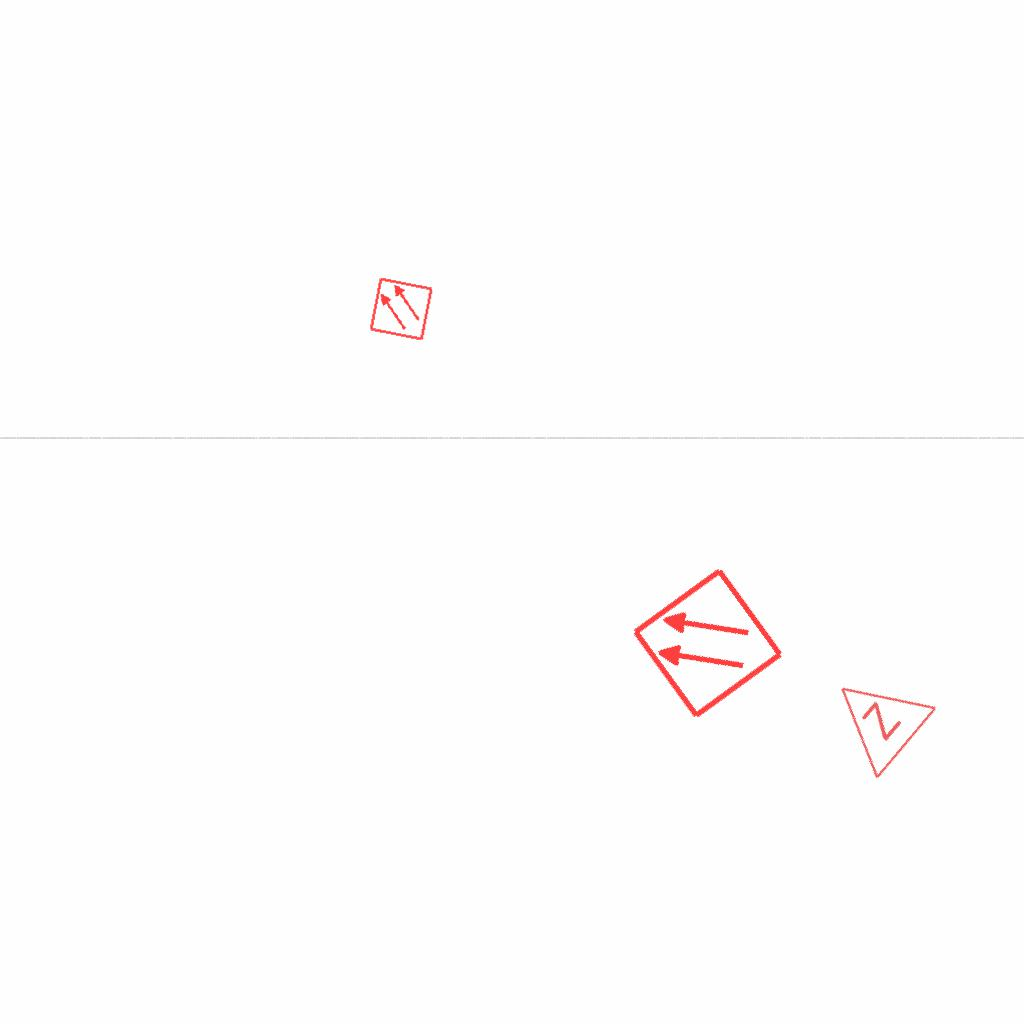RMO_Rauchmelder_optischer: (628, 564, 787, 723), (368, 276, 434, 342)
Zimmersignalleuchte: (804, 647, 944, 787)
